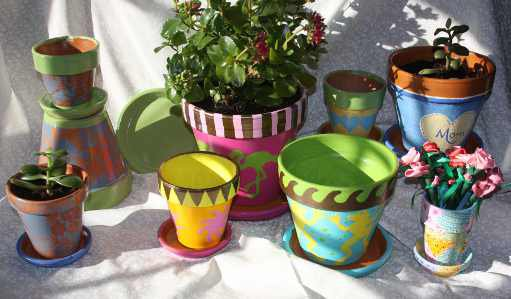flowerpot: (179, 83, 307, 220), (278, 135, 399, 278), (384, 47, 496, 166), (158, 150, 239, 259), (7, 165, 91, 269), (31, 32, 108, 118), (412, 189, 474, 276), (313, 71, 387, 143)
